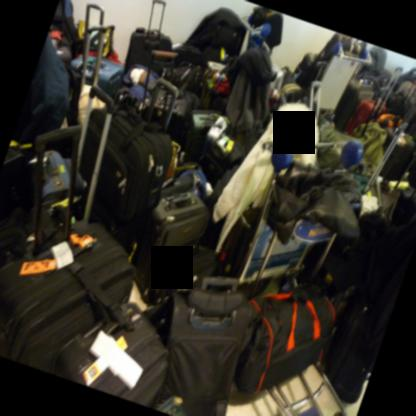backpack: (11, 29, 69, 145), (113, 83, 152, 117), (211, 74, 231, 98)
handbag: (234, 286, 335, 393)
suitcase: (0, 0, 415, 415), (0, 215, 135, 370), (157, 289, 251, 416), (52, 307, 173, 402), (79, 103, 173, 222), (136, 187, 210, 298), (63, 1, 121, 122), (125, 1, 171, 71), (0, 145, 37, 216), (41, 150, 69, 243), (0, 206, 40, 269), (200, 134, 242, 190), (332, 79, 374, 133), (346, 97, 388, 129)
